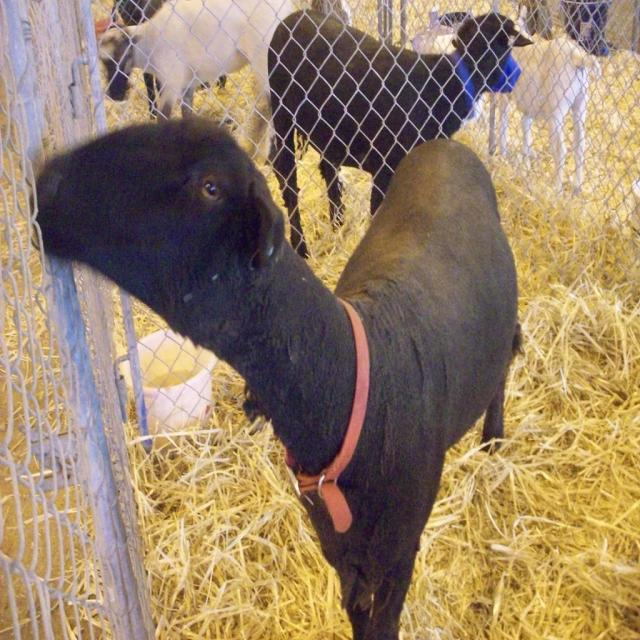Goat: (29, 1, 599, 640)
